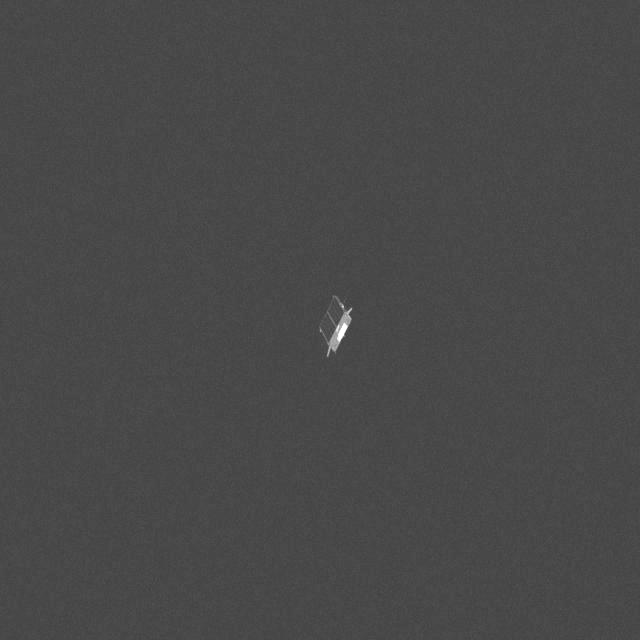satellite: (316, 288, 366, 356)
